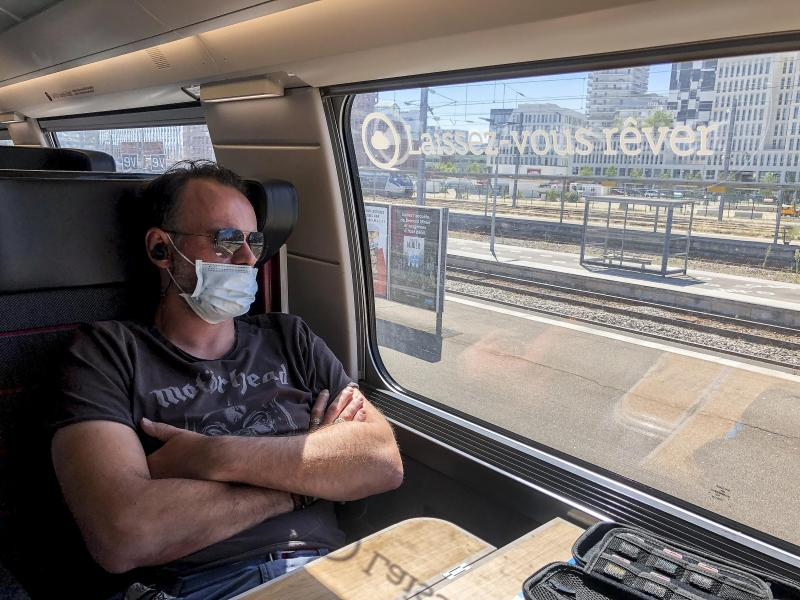with_incorrect_mask: (146, 182, 261, 327)
